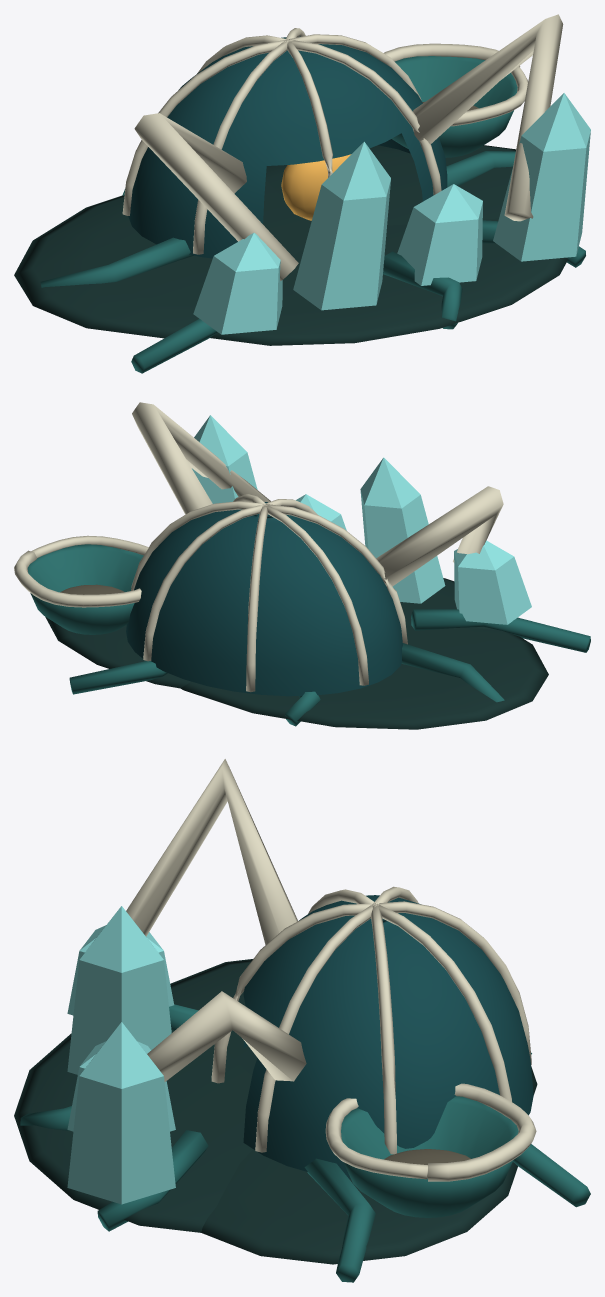
Rendered from building_silicate_pit_a.obj.
The picture shows the model from 3 angles, top to bottom: view 1: azimuth 30°, elevation 25°; view 2: azimuth 150°, elevation 25°; view 3: azimuth 270°, elevation 25°; orthographic projection. The views are drawn at different scales.
Parts seen in each view (by area): view 1: inhabited_shell.021, irregular_anchoring_lobe.072, irregular_anchoring_lobe.074, cleaved_mineral.012, cleaved_mineral.014, mineral_brace.001, mineral_brace, cleaved_mineral.011, cleaved_mineral.013, open_living_cup.071, irregular_anchoring_lobe.073, anchoring_root.171 (+12 smaller); view 2: inhabited_shell.021, irregular_anchoring_lobe.072, open_living_cup.071, cleaved_mineral.012, mineral_brace.001, mineral_brace, cleaved_mineral.011, grown_cup_lip.071, anchoring_root.172, irregular_anchoring_lobe.073, cleaved_mineral.014, growth_seam.150 (+10 smaller); view 3: inhabited_shell.021, irregular_anchoring_lobe.074, irregular_anchoring_lobe.073, cleaved_mineral.014, cleaved_mineral.012, open_living_cup.071, mineral_brace, mineral_brace.001, grown_cup_lip.071, anchoring_root.168, growth_seam.147, irregular_anchoring_lobe.072 (+10 smaller).
Part boxes in pixels (left/top/right/bottom): inhabited_shell.021: left=128, top=36, right=447, bottom=258; irregular_anchoring_lobe.072: left=14, top=180, right=311, bottom=338; irregular_anchoring_lobe.074: left=210, top=218, right=568, bottom=345; cleaved_mineral.012: left=293, top=141, right=390, bottom=310; cleaved_mineral.014: left=493, top=93, right=590, bottom=261; mineral_brace.001: left=413, top=14, right=563, bottom=221; mineral_brace: left=134, top=113, right=298, bottom=280; cleaved_mineral.011: left=193, top=233, right=282, bottom=334; cleaved_mineral.013: left=397, top=184, right=482, bottom=285; open_living_cup.071: left=391, top=56, right=517, bottom=157; irregular_anchoring_lobe.073: left=265, top=145, right=515, bottom=225; anchoring_root.171: left=40, top=237, right=193, bottom=287; inhabited_shell.021: left=126, top=502, right=402, bottom=696; irregular_anchoring_lobe.072: left=180, top=625, right=548, bottom=729; open_living_cup.071: left=27, top=544, right=143, bottom=634; cleaved_mineral.012: left=360, top=457, right=445, bottom=603; mineral_brace.001: left=132, top=402, right=270, bottom=514; mineral_brace: left=376, top=486, right=503, bottom=586; cleaved_mineral.011: left=454, top=540, right=531, bottom=624; grown_cup_lip.071: left=14, top=535, right=148, bottom=607; anchoring_root.172: left=411, top=609, right=590, bottom=652; irregular_anchoring_lobe.073: left=45, top=617, right=190, bottom=688; cleaved_mineral.014: left=192, top=415, right=257, bottom=503; growth_seam.150: left=264, top=504, right=368, bottom=685; inhabited_shell.021: left=243, top=895, right=533, bottom=1178; irregular_anchoring_lobe.074: left=14, top=1031, right=252, bottom=1232; irregular_anchoring_lobe.073: left=201, top=1149, right=517, bottom=1264; cleaved_mineral.014: left=67, top=1022, right=175, bottom=1204; cleaved_mineral.012: left=67, top=906, right=171, bottom=1074; open_living_cup.071: left=341, top=1096, right=518, bottom=1217; mineral_brace: left=126, top=759, right=297, bottom=944; mineral_brace.001: left=147, top=991, right=306, bottom=1081; grown_cup_lip.071: left=325, top=1083, right=536, bottom=1181; anchoring_root.168: left=304, top=1158, right=375, bottom=1282; growth_seam.147: left=370, top=904, right=396, bottom=1154; irregular_anchoring_lobe.072: left=170, top=959, right=537, bottom=1094.
Bounding box in the file's own units: 3.59 × 1.32 × 2.73.
